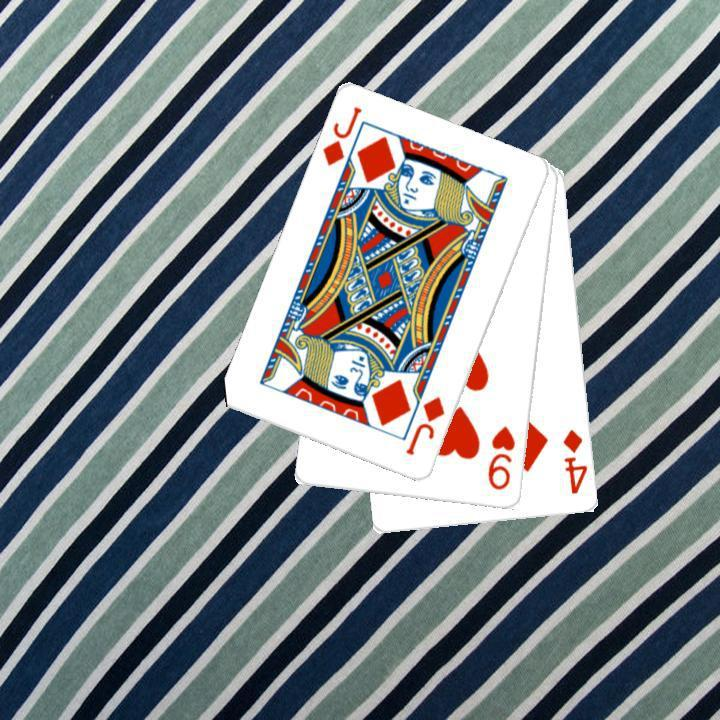4: (559, 426, 590, 497)
9: (484, 422, 518, 493)
J: (318, 102, 364, 169), (401, 392, 447, 458)
